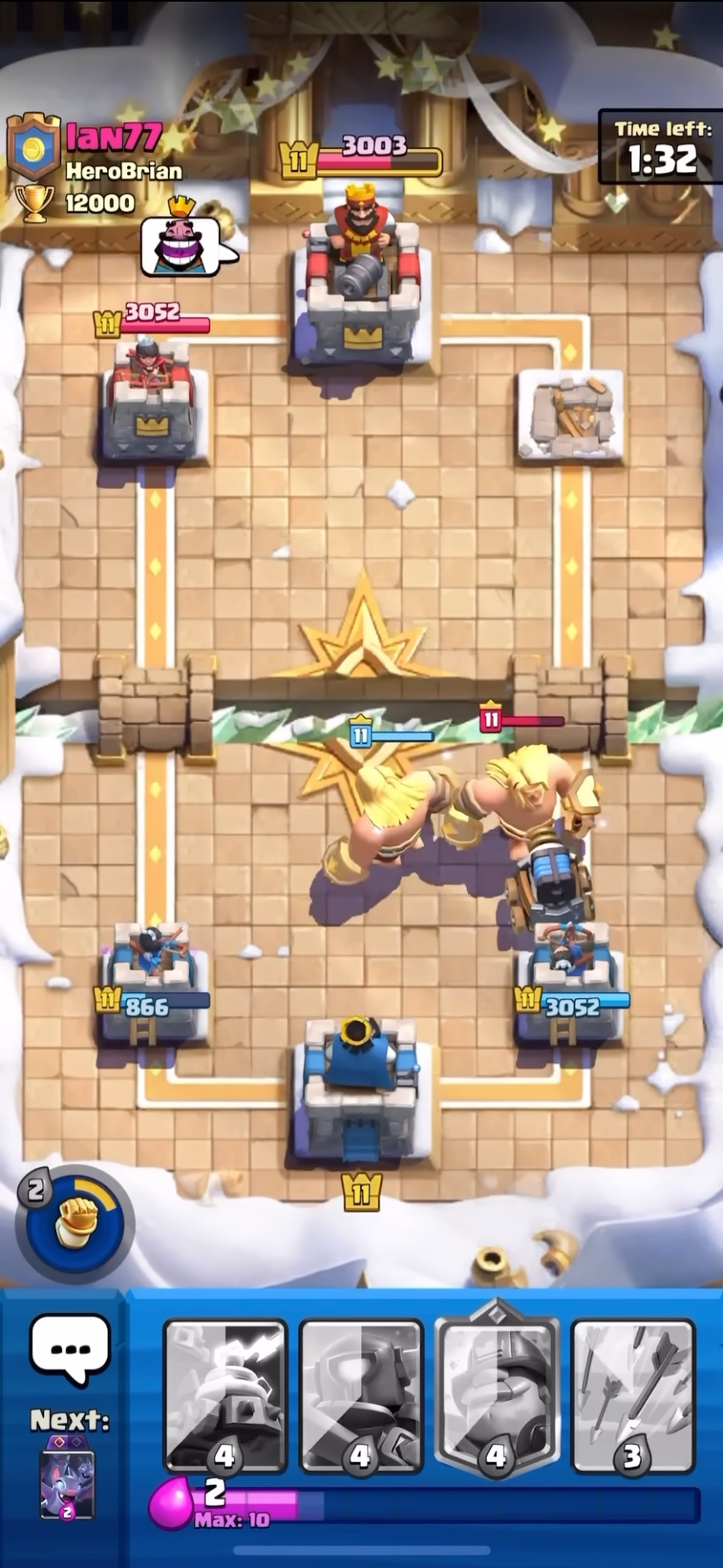hero-giant: (450, 692, 610, 862)
